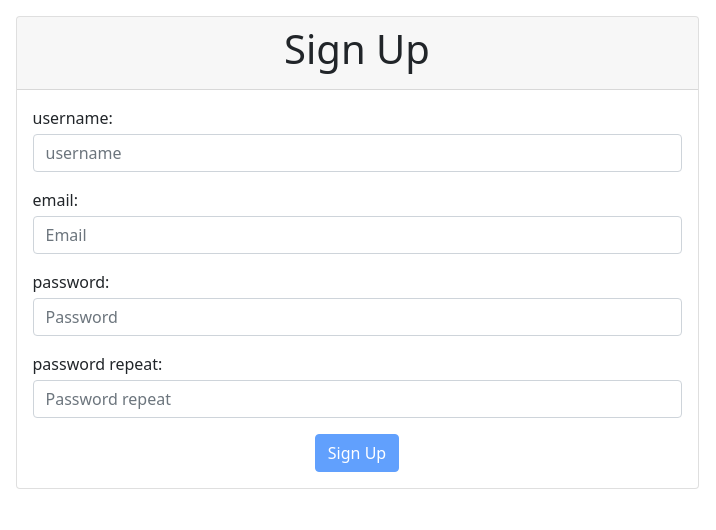
Test case: Sign Up Page › Interactions › displays Username cannot be null error for username
Type "devAmirHemmati" into the field labelled "username:" at (357, 153), box [32,134,682,172]
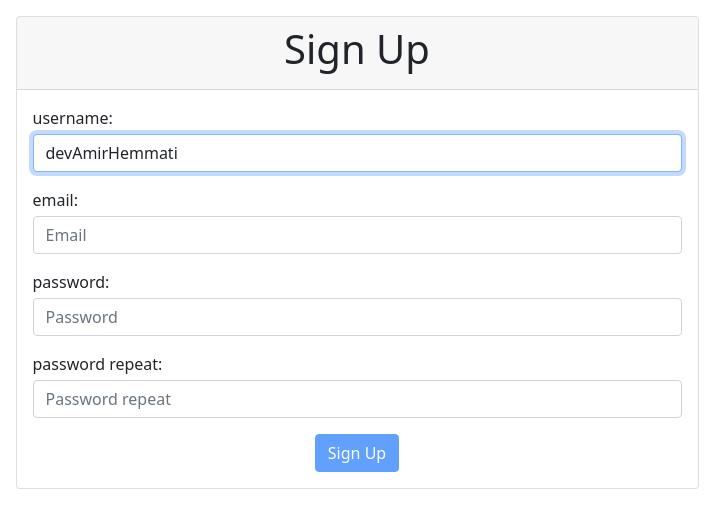
Type "dev.amirhemmati1382@gmail.com" into the field labelled "email:" at (357, 235), box [32,216,682,254]
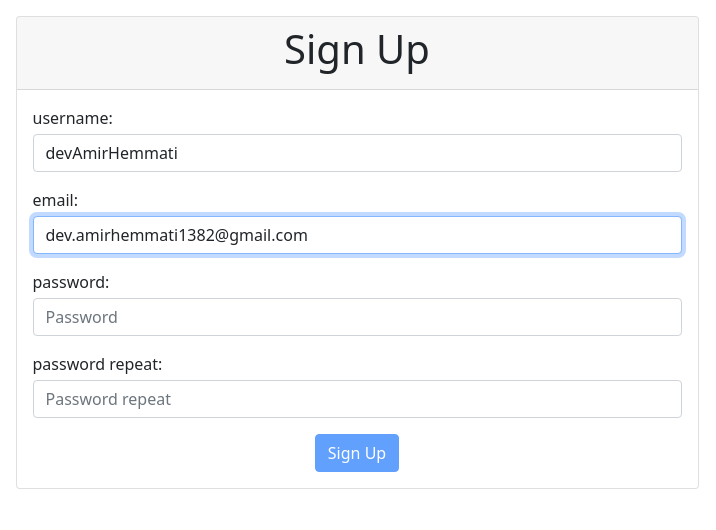
Type "myPass" into the password field labelled "password:" at (357, 317), box [32,298,682,336]
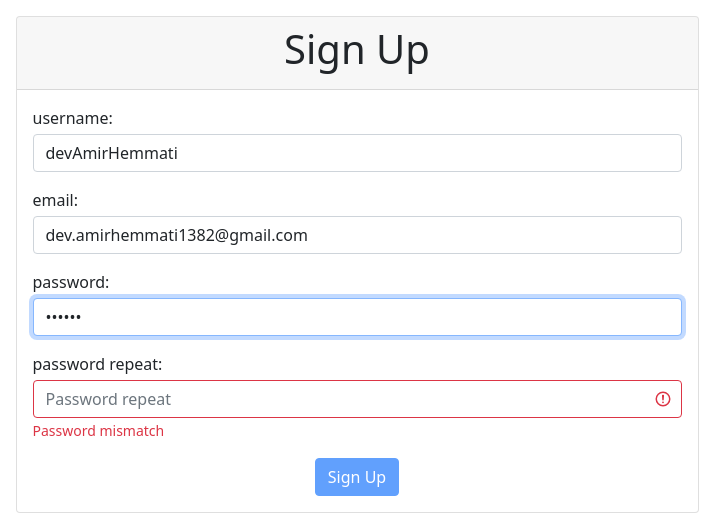
Type "myPass" into the password field labelled "password repeat:" at (357, 399), box [32,380,682,418]
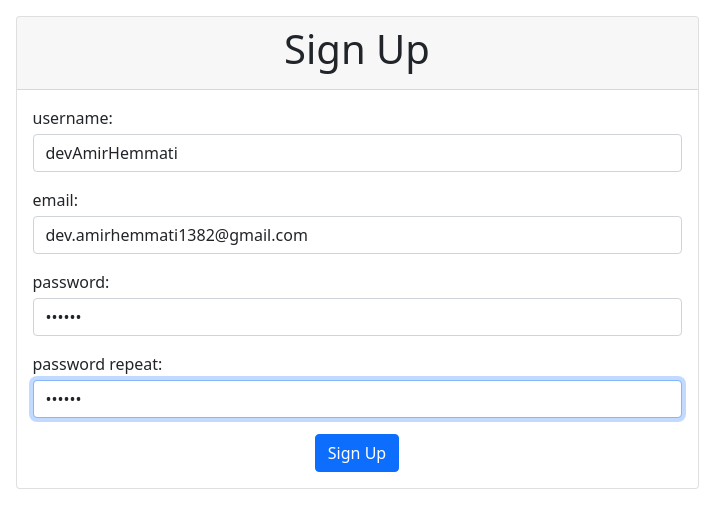
Click the button "Sign Up" at (357, 453), box [315,434,399,472]
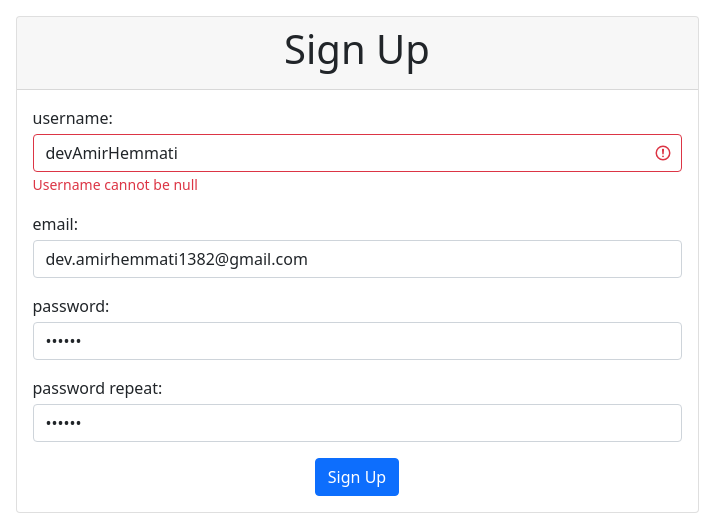
Check: the text "Username cannot be null" is shown, box [32,175,198,194]
